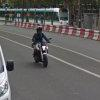Motorcycle: (23, 34, 59, 70)
